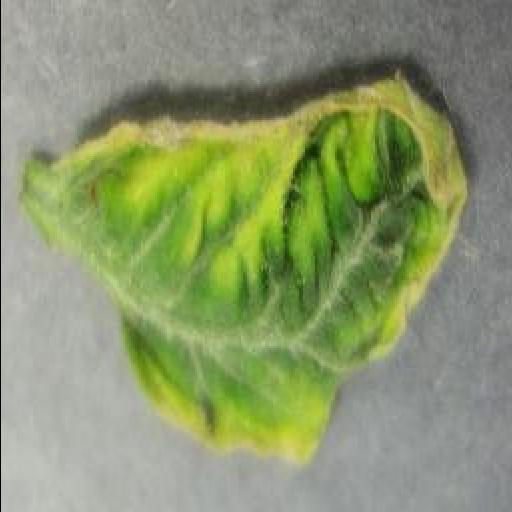disease_tomato: (24, 70, 468, 466)
